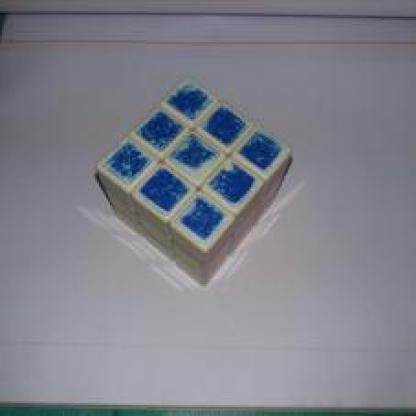cube: (90, 69, 303, 290)
